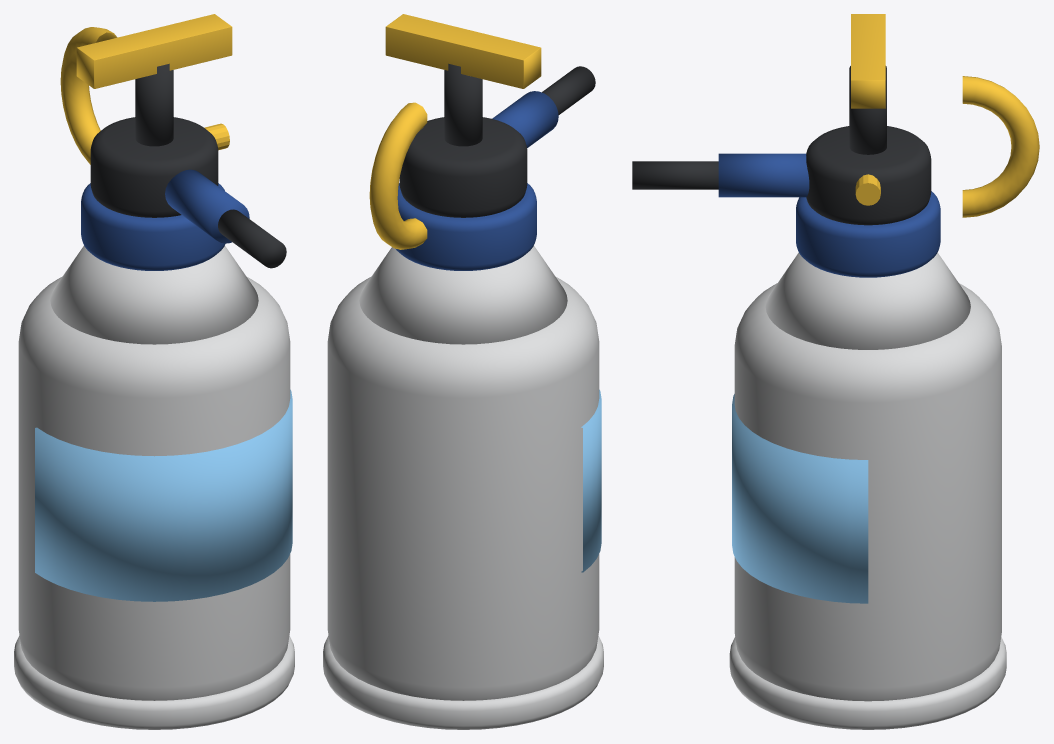
Rendered from PulverisateurMousse.fbx.
The picture shows the model from 3 angles, left to right: view 1: azimuth 30°, elevation 25°; view 2: azimuth 150°, elevation 25°; view 3: azimuth 270°, elevation 25°; orthographic projection.
Parts seen in each view (by area): view 1: Pulve_Bottle, Pulve_Label, Pulve_Shoulder, Pulve_Foot, Pulve_PumpHead, Pulve_Collar, Pulve_PumpHandle, Pulve_CarryHandle, Pulve_NozzleBlue, Pulve_PumpRod, Pulve_NozzleTip; view 2: Pulve_Bottle, Pulve_Shoulder, Pulve_PumpHead, Pulve_Foot, Pulve_Collar, Pulve_PumpHandle, Pulve_CarryHandle, Pulve_Label, Pulve_PumpRod, Pulve_NozzleBlue, Pulve_NozzleTip; view 3: Pulve_Bottle, Pulve_Label, Pulve_Shoulder, Pulve_PumpHead, Pulve_Foot, Pulve_Collar, Pulve_CarryHandle, Pulve_NozzleBlue, Pulve_PumpHandle, Pulve_NozzleTip, Pulve_PumpRod, Pulve_ReliefValve.
Part boxes in pixels (x1,y1,x2,y2): Pulve_Bottle: (18, 276, 290, 700); Pulve_Label: (35, 389, 292, 601); Pulve_Shoulder: (50, 245, 258, 344); Pulve_Foot: (14, 635, 294, 729); Pulve_PumpHead: (90, 117, 218, 217); Pulve_Collar: (81, 183, 225, 270); Pulve_PumpHandle: (76, 14, 232, 88); Pulve_CarryHandle: (60, 27, 117, 164); Pulve_NozzleBlue: (165, 169, 249, 243); Pulve_PumpRod: (135, 63, 173, 146); Pulve_NozzleTip: (218, 209, 286, 268); Pulve_Bottle: (327, 276, 599, 700); Pulve_Shoulder: (359, 245, 567, 344); Pulve_PumpHead: (399, 117, 527, 217); Pulve_Foot: (323, 635, 603, 729); Pulve_Collar: (395, 183, 536, 270); Pulve_PumpHandle: (385, 14, 541, 88); Pulve_CarryHandle: (369, 102, 427, 249); Pulve_Label: (581, 389, 601, 572); Pulve_PumpRod: (444, 63, 482, 146); Pulve_NozzleBlue: (492, 91, 558, 147); Pulve_NozzleTip: (542, 66, 595, 114); Pulve_Bottle: (734, 283, 1001, 701); Pulve_Label: (732, 394, 868, 603); Pulve_Shoulder: (765, 252, 970, 349); Pulve_PumpHead: (806, 126, 931, 225); Pulve_Foot: (729, 637, 1006, 729); Pulve_Collar: (796, 191, 940, 277); Pulve_CarryHandle: (962, 76, 1039, 217); Pulve_NozzleBlue: (718, 153, 809, 197); Pulve_PumpHandle: (851, 14, 885, 108); Pulve_NozzleTip: (632, 161, 718, 189); Pulve_PumpRod: (849, 66, 886, 154); Pulve_ReliefValve: (855, 174, 880, 205).
Bounding box in the file's own units: 0.176 × 0.44 × 0.259.
